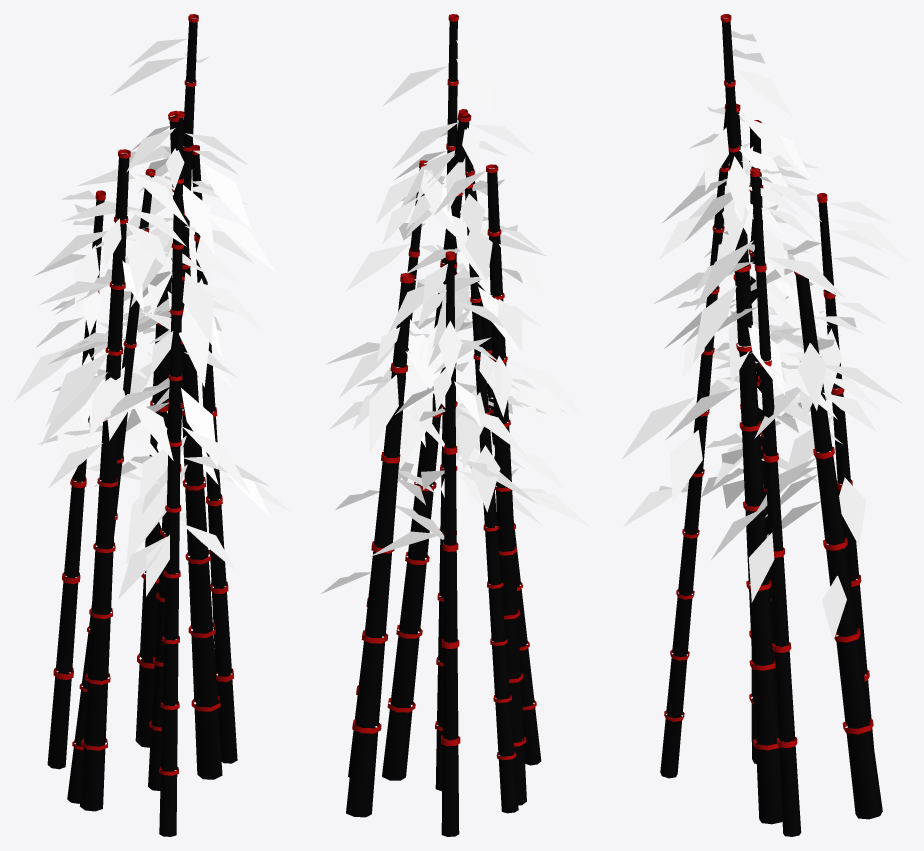
File: TreNga.glb
3 renders of one model, left to right at view 1: azimuth 30°, elevation 25°; view 2: azimuth 150°, elevation 25°; view 3: azimuth 270°, elevation 25°, orthographic. The views are drawn at different scales.
Parts seen in each view (by area): view 1: Culms, Leaves; view 2: Culms, Leaves; view 3: Culms, Leaves.
Part boxes in pixels (box(x1,y1,x2,y2)): Culms: box(47, 14, 237, 836); Leaves: box(14, 38, 290, 599); Culms: box(346, 14, 541, 836); Leaves: box(321, 40, 591, 593); Culms: box(660, 14, 882, 836); Leaves: box(621, 31, 908, 640).
Size of the model in its own units: 2.18 by 6.39 by 2.13.
